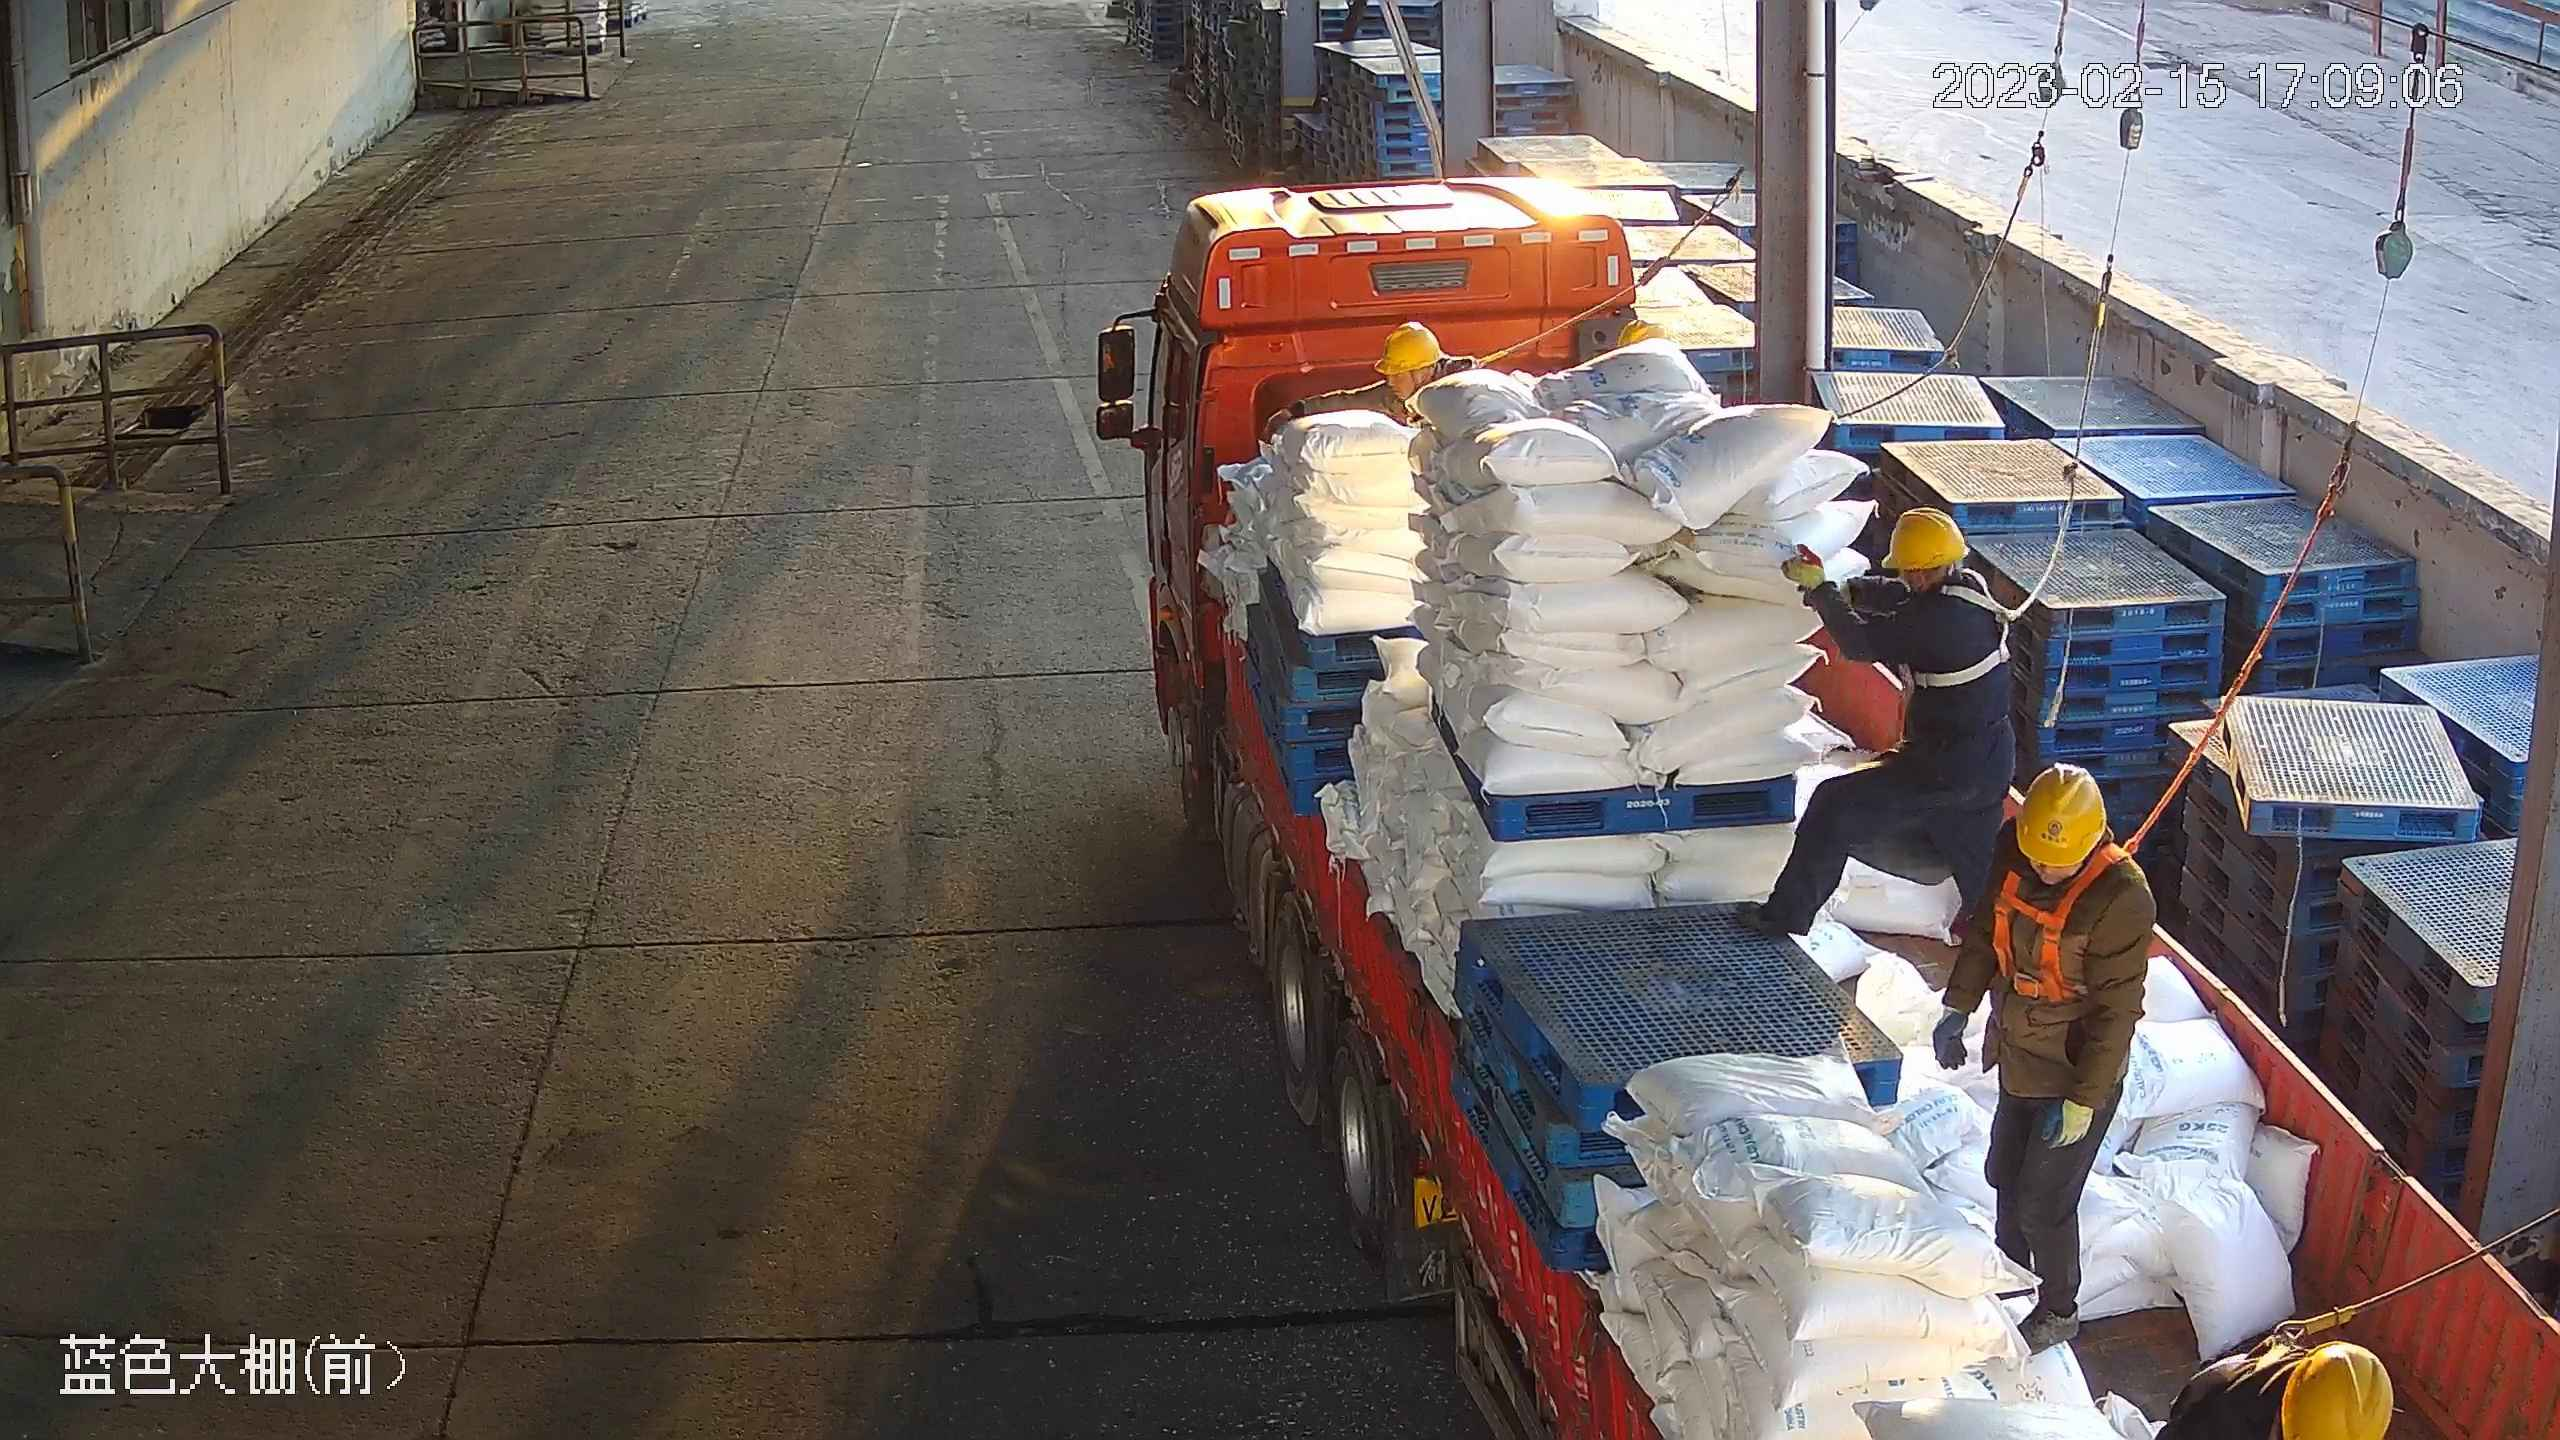belt: (1995, 879, 2111, 1006), (1920, 586, 2034, 695), (2227, 1312, 2329, 1381)
head: (1984, 765, 2141, 920), (1862, 506, 1992, 648)
helmet: (2293, 1337, 2393, 1440), (2011, 762, 2100, 867), (1876, 508, 1967, 576), (1372, 322, 1442, 378)
people: (1935, 765, 2163, 1360), (1739, 499, 2013, 946)
truck: (1093, 174, 2560, 1440)
